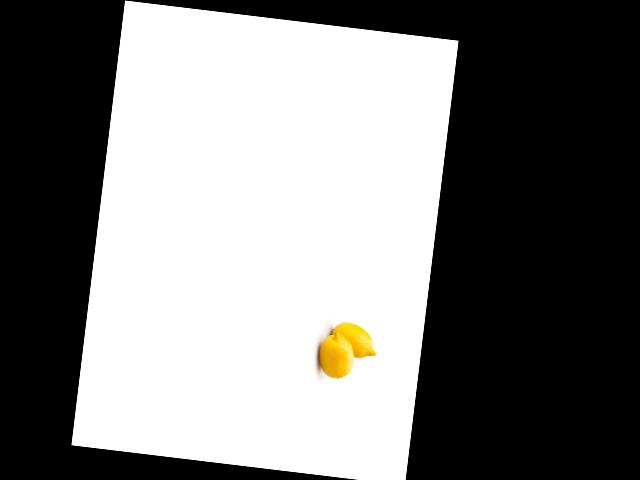lemon: (311, 330, 360, 382)
